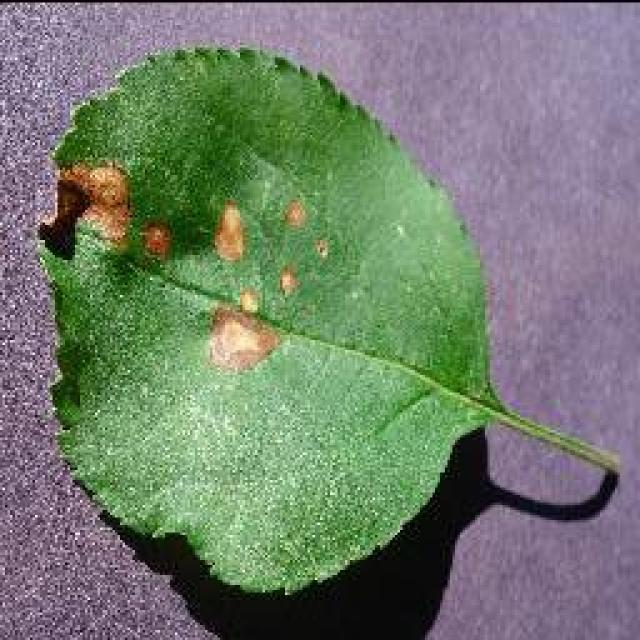Black_rot: (32, 40, 620, 598)
